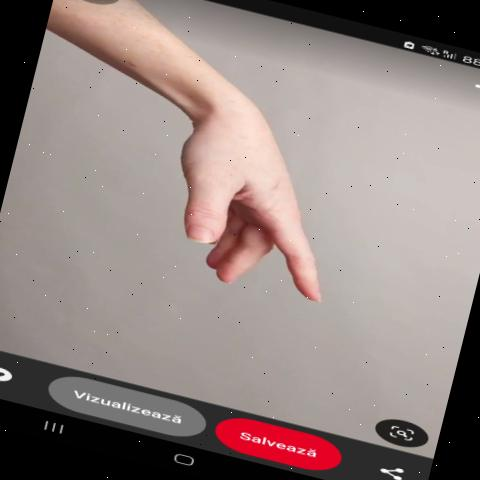hands: (89, 61, 418, 344)
